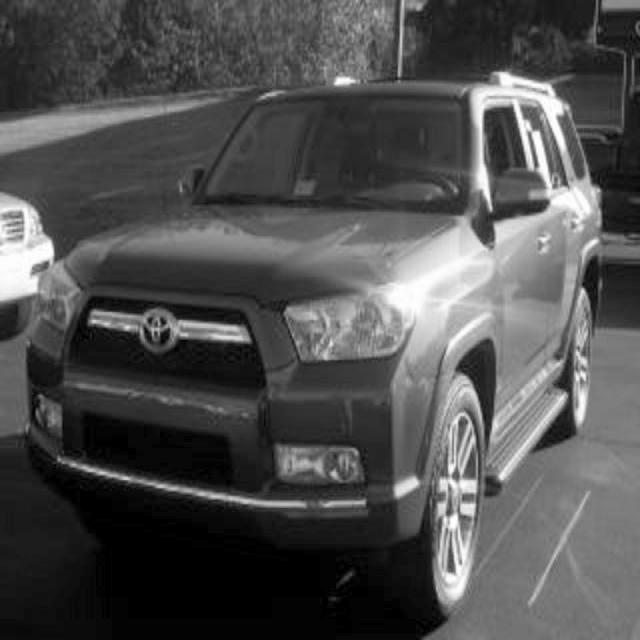car: (23, 69, 605, 619)
